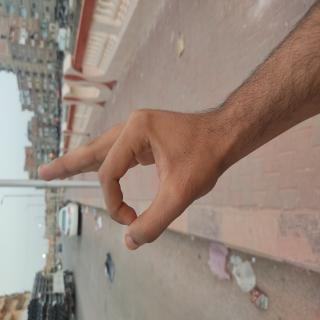Space: (48, 50, 169, 302)
